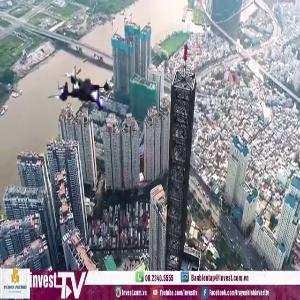drone: (42, 61, 130, 149)
